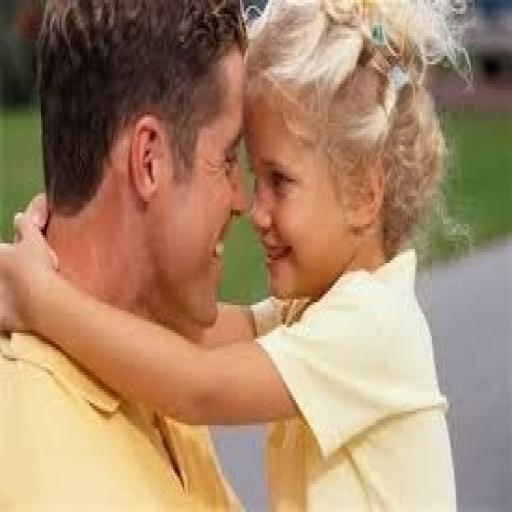hugging: (2, 0, 471, 509)
